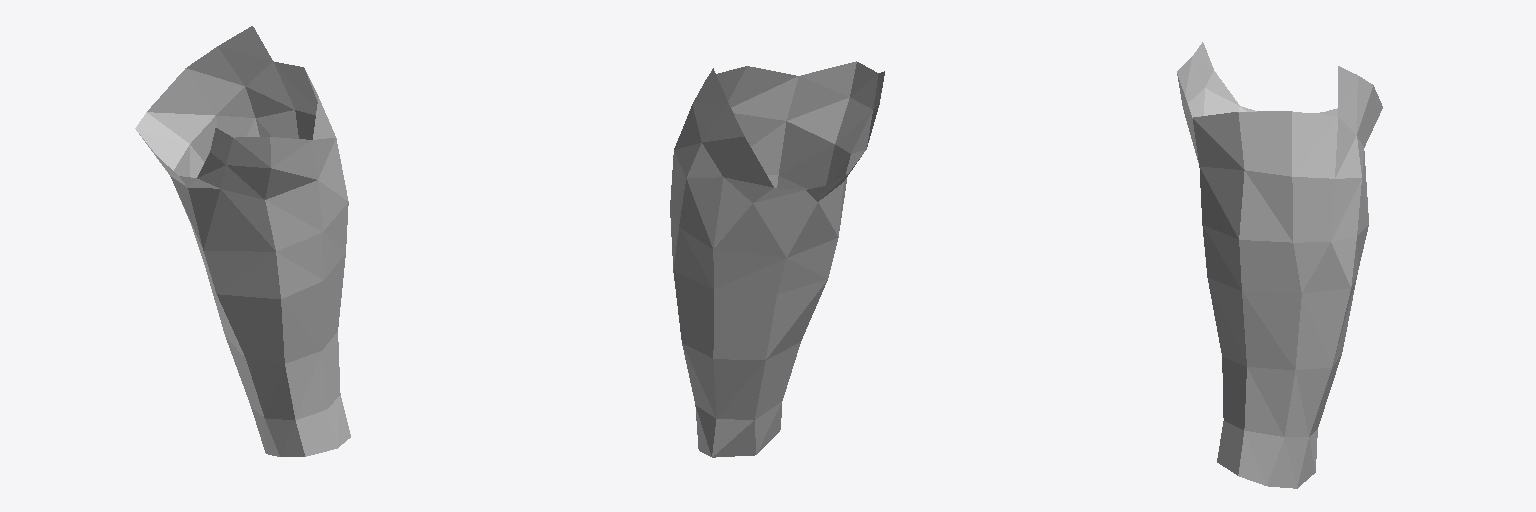
File: MusloDKarma.obj
The picture shows the model from 3 angles: view 1: azimuth 30°, elevation 25°; view 2: azimuth 150°, elevation 25°; view 3: azimuth 270°, elevation 25°; orthographic projection.
Parts seen in each view (by area): view 1: Muslo_der_Material.001; view 2: Muslo_der_Material.001; view 3: Muslo_der_Material.001.
Part boxes in pixels (bbox=[...]): Muslo_der_Material.001: bbox=[135, 26, 350, 456]; Muslo_der_Material.001: bbox=[670, 61, 884, 457]; Muslo_der_Material.001: bbox=[1177, 42, 1382, 488].
Bounding box in the file's own units: 20.7 × 50.88 × 23.45.